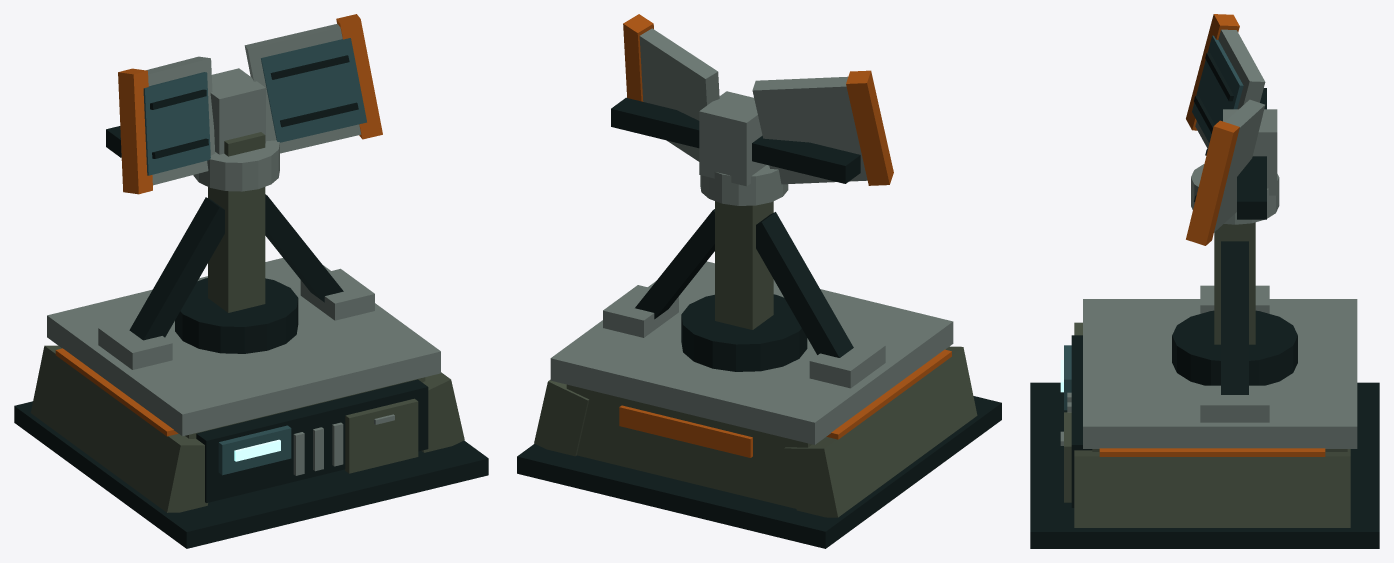
Rendered from relay.glb.
The picture shows the model from 3 angles, left to right: view 1: azimuth 30°, elevation 25°; view 2: azimuth 150°, elevation 25°; view 3: azimuth 270°, elevation 25°; orthographic projection. The views are drawn at different scales.
Visible parts, largest first — view 1: relay-static-frame, relay-static-trim, relay-static-armor, relay-panel-face--1, relay-panel-face-1, relay-array-hub, relay-panel-edge-1, relay-panel-frame--1, relay-panel-frame-1, relay-panel-edge--1, relay-console, relay-static-owner (+3 smaller); view 2: relay-static-armor, relay-static-trim, relay-static-frame, relay-panel-frame-1, relay-crossarm, relay-panel-frame--1, relay-array-hub, relay-static-owner, relay-panel-edge-1, relay-panel-edge--1; view 3: relay-static-trim, relay-static-frame, relay-static-armor, relay-panel-edge--1, relay-panel-frame--1, relay-panel-face-1, relay-static-owner, relay-crossarm, relay-panel-frame-1, relay-array-hub, relay-panel-edge-1, relay-console.
Part boxes in pixels (x1,y1,x2,y2): relay-static-frame: (14, 194, 488, 548); relay-static-trim: (47, 140, 440, 475); relay-static-armor: (30, 132, 464, 512); relay-panel-face--1: (261, 38, 366, 142); relay-panel-face-1: (143, 72, 210, 175); relay-array-hub: (210, 68, 265, 154); relay-panel-edge-1: (118, 68, 152, 194); relay-panel-frame--1: (244, 23, 361, 153); relay-panel-frame-1: (146, 56, 215, 185); relay-panel-edge--1: (336, 14, 382, 139); relay-console: (218, 425, 291, 475); relay-static-owner: (55, 348, 178, 436); relay-static-armor: (534, 201, 977, 517); relay-static-trim: (550, 165, 953, 444); relay-static-frame: (517, 209, 1001, 548); relay-panel-frame-1: (752, 76, 867, 184); relay-crossarm: (611, 97, 860, 183); relay-panel-frame--1: (639, 28, 719, 161); relay-array-hub: (699, 91, 766, 186); relay-static-owner: (619, 349, 951, 457); relay-panel-edge-1: (846, 70, 893, 185); relay-panel-edge--1: (623, 14, 653, 101); relay-static-trim: (1060, 164, 1357, 448); relay-static-frame: (1030, 241, 1379, 548); relay-static-armor: (1064, 222, 1350, 527); relay-panel-edge--1: (1186, 120, 1239, 245); relay-panel-frame--1: (1214, 99, 1265, 232); relay-panel-face-1: (1192, 35, 1243, 142); relay-static-owner: (1099, 448, 1325, 456); relay-crossarm: (1237, 88, 1266, 219); relay-panel-frame-1: (1195, 29, 1265, 148); relay-array-hub: (1223, 109, 1277, 195); relay-panel-edge-1: (1186, 14, 1239, 130); relay-console: (1064, 345, 1071, 410).
Size of the model in its own units: 1.88 by 2.37 by 1.86.
